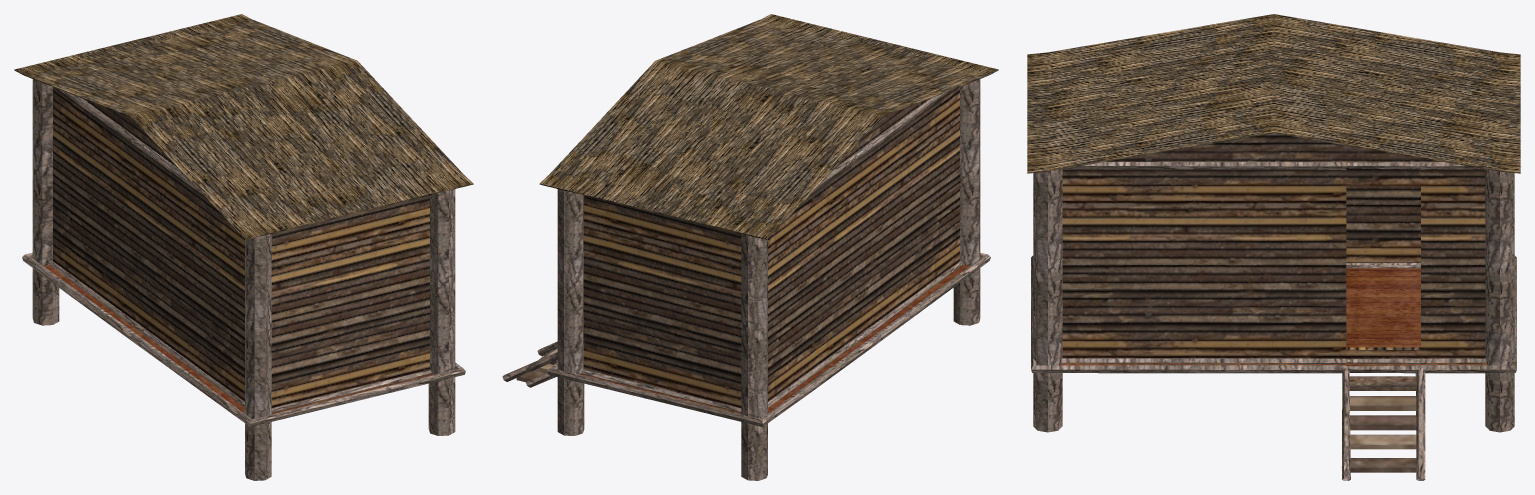
The model's file is Cabin.fbx.
The picture shows the model from 3 angles, left to right: view 1: azimuth 30°, elevation 25°; view 2: azimuth 150°, elevation 25°; view 3: azimuth 270°, elevation 25°; orthographic projection. The views are drawn at different scales.
Parts seen in each view (by area): view 1: Plane, Plane.001, Circle, Circle.001, Plane.003, Plane.011, Plane.002, Plane.012; view 2: Plane, Plane.001, Circle.001, Circle, Plane.003, Plane.011, Plane.002, Plane.012, Plane.004; view 3: Plane, Plane.001, Circle, Circle.001, Plane.002, Plane.003, Plane.012, Plane.011, Plane.004, Plane.008, Plane.007, Plane.010 (+2 smaller).
Part boxes in pixels (x1=…): Plane: x1=53, y1=87, x2=429, y2=407; Plane.001: x1=14, y1=14, x2=473, y2=239; Circle: x1=245, y1=189, x2=455, y2=480; Circle.001: x1=32, y1=79, x2=59, y2=325; Plane.003: x1=22, y1=252, x2=465, y2=426; Plane.011: x1=49, y1=261, x2=432, y2=412; Plane.002: x1=32, y1=258, x2=433, y2=413; Plane.012: x1=59, y1=89, x2=201, y2=193; Plane: x1=583, y1=87, x2=959, y2=408; Plane.001: x1=539, y1=14, x2=998, y2=239; Circle.001: x1=557, y1=189, x2=767, y2=480; Circle: x1=953, y1=79, x2=980, y2=325; Plane.003: x1=547, y1=252, x2=990, y2=426; Plane.011: x1=580, y1=261, x2=963, y2=412; Plane.002: x1=579, y1=258, x2=980, y2=413; Plane.012: x1=810, y1=89, x2=953, y2=194; Plane.004: x1=502, y1=341, x2=557, y2=381; Plane: x1=1062, y1=133, x2=1485, y2=361; Plane.001: x1=1027, y1=14, x2=1520, y2=173; Circle: x1=1033, y1=169, x2=1062, y2=432; Circle.001: x1=1485, y1=169, x2=1514, y2=432; Plane.002: x1=1060, y1=268, x2=1487, y2=372; Plane.003: x1=1031, y1=255, x2=1516, y2=373; Plane.012: x1=1062, y1=162, x2=1485, y2=169; Plane.011: x1=1061, y1=263, x2=1486, y2=363; Plane.004: x1=1342, y1=367, x2=1425, y2=480; Plane.008: x1=1350, y1=415, x2=1416, y2=430; Plane.007: x1=1350, y1=434, x2=1416, y2=449; Plane.010: x1=1349, y1=376, x2=1416, y2=390.
Bounding box in the file's own units: 338 × 301 × 437.
